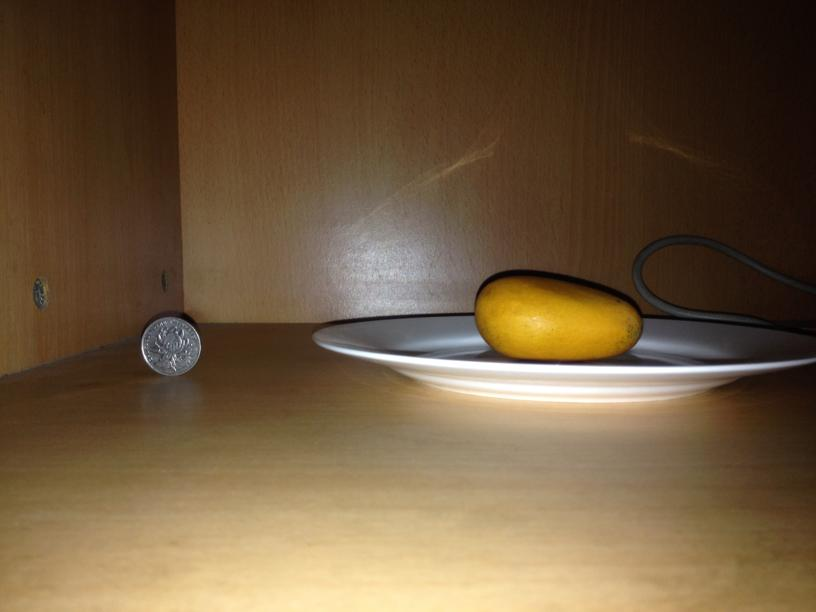coin: (136, 316, 202, 377)
mango: (467, 269, 641, 359)
